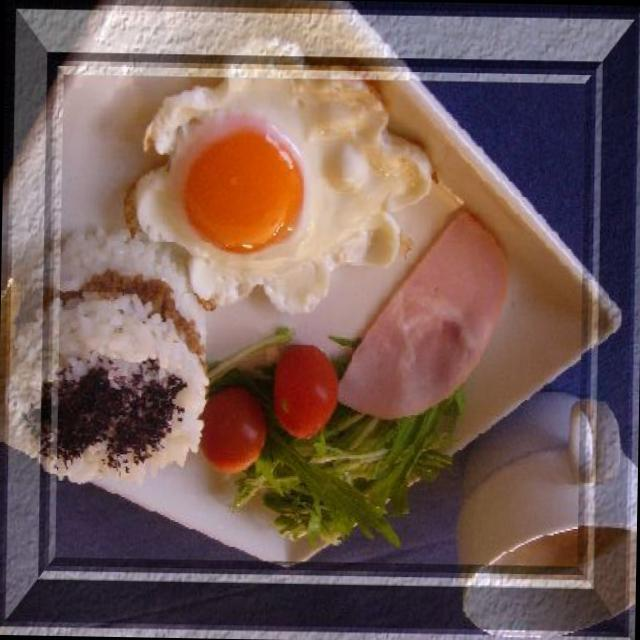Egg: (126, 80, 400, 314)
